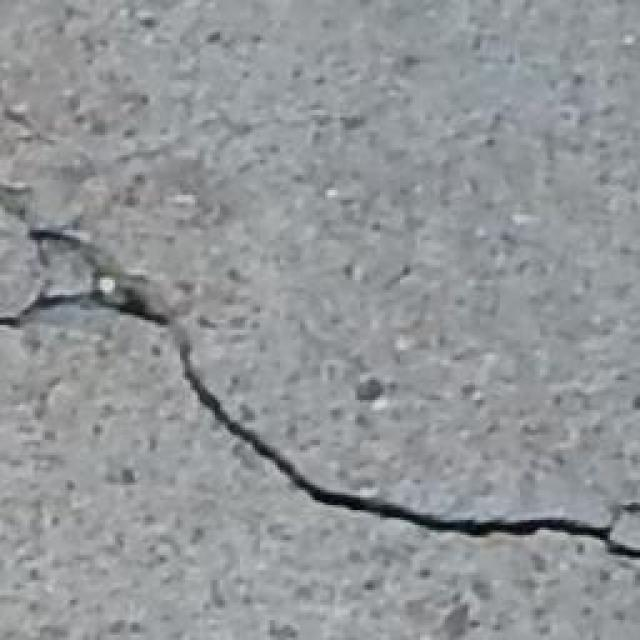concrete-crack: (0, 223, 640, 566)
